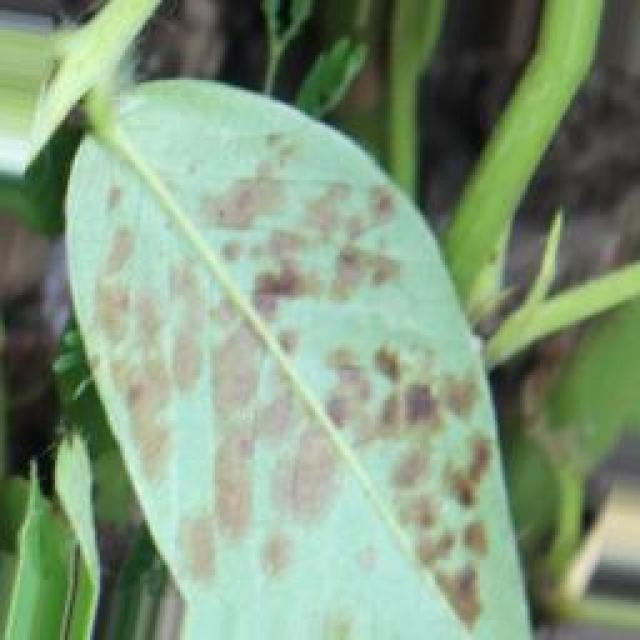Whitefly: (57, 85, 514, 640)
